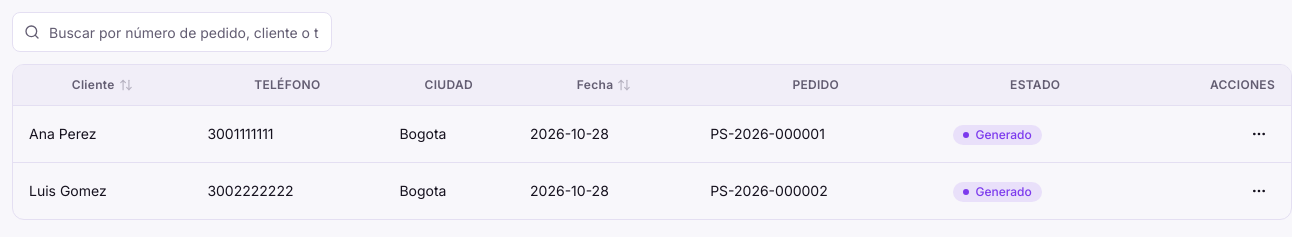
Scenario: HistoryTable › filters labels by recipient name
Type "luis" into the field labelled "Buscar por número de pedido, cliente o teléfono" at point(172, 32), box [12,12,332,52]
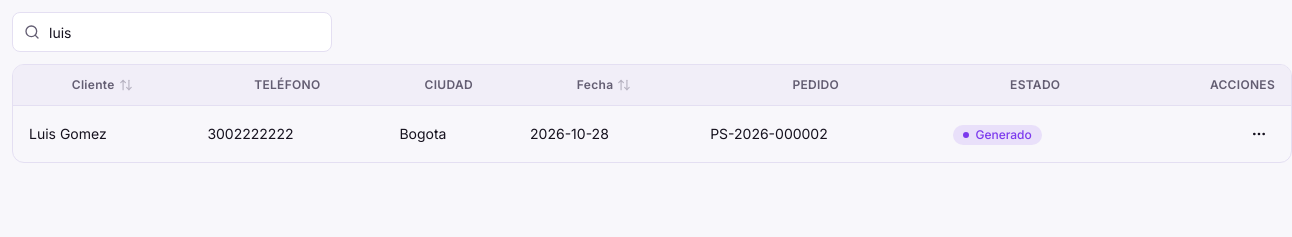
Expected: the text "Luis Gomez" is shown, [13,106,191,162]
Result: the text "Ana Perez" is gone
